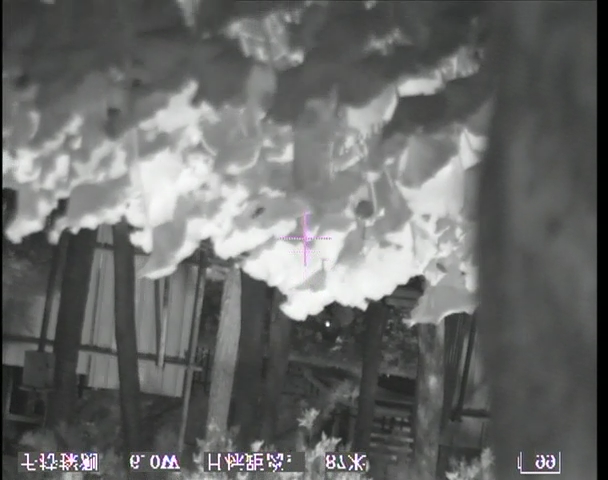my: (324, 319, 332, 328)
